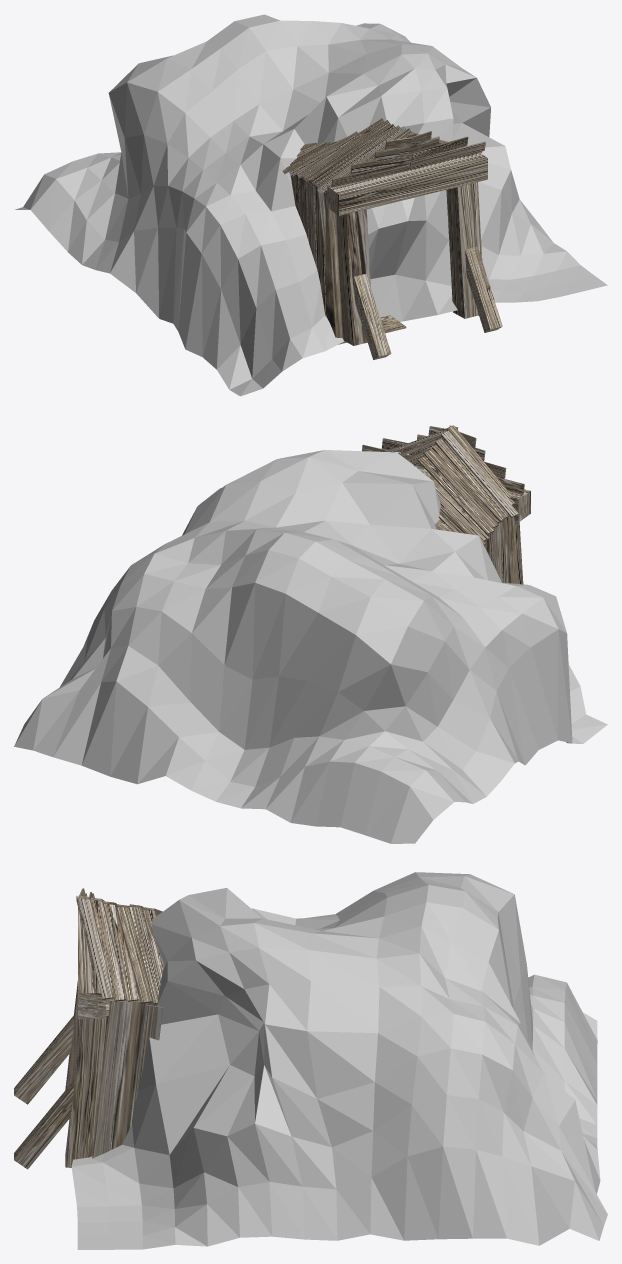
The model's file is mine_ex.obj.
3 renders of one model, top to bottom at view 1: azimuth 30°, elevation 25°; view 2: azimuth 150°, elevation 25°; view 3: azimuth 270°, elevation 25°, orthographic. The views are drawn at different scales.
Parts seen in each view (by area): view 1: Mesh.007_Mesh.123_SKALA_hrt_stone_03.jpg, Mesh.007_Mesh.123_drevo_WoodRough0050_1_S.jpg, Mesh.007_Mesh.123_drevo; view 2: Mesh.007_Mesh.123_SKALA_hrt_stone_03.jpg, Mesh.007_Mesh.123_drevo_WoodRough0050_1_S.jpg, Mesh.007_Mesh.123_drevo; view 3: Mesh.007_Mesh.123_SKALA_hrt_stone_03.jpg, Mesh.007_Mesh.123_drevo_WoodRough0050_1_S.jpg.
Part boxes in pixels (x1,y1,x2,y2): Mesh.007_Mesh.123_SKALA_hrt_stone_03.jpg: (15,14,607,396); Mesh.007_Mesh.123_drevo_WoodRough0050_1_S.jpg: (282,118,502,359); Mesh.007_Mesh.123_drevo: (290,132,411,344); Mesh.007_Mesh.123_SKALA_hrt_stone_03.jpg: (14,450,607,843); Mesh.007_Mesh.123_drevo_WoodRough0050_1_S.jpg: (362,425,530,584); Mesh.007_Mesh.123_drevo: (422,440,518,583); Mesh.007_Mesh.123_SKALA_hrt_stone_03.jpg: (71,872,607,1249); Mesh.007_Mesh.123_drevo_WoodRough0050_1_S.jpg: (14,888,164,1169).
Size of the model in its own units: 5.64 by 3.52 by 6.13.
